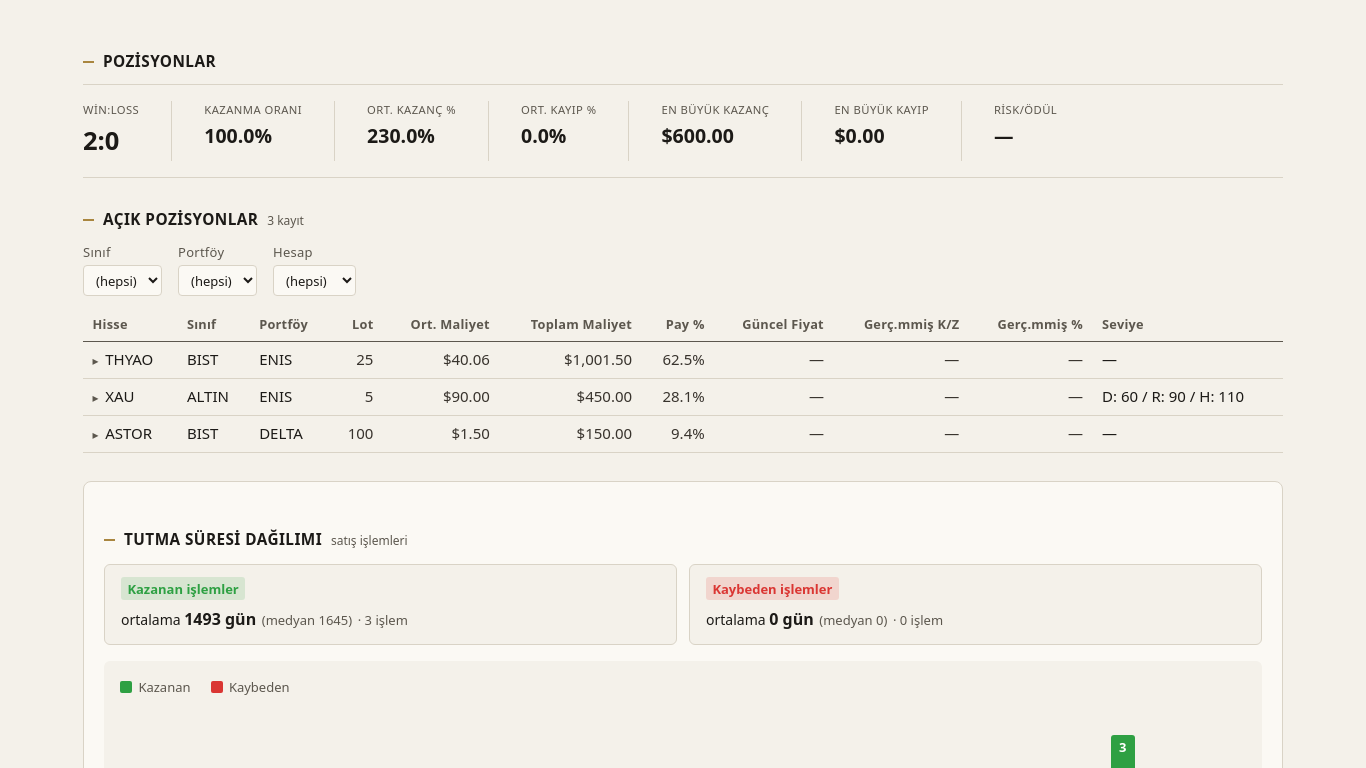
Pozisyonlar › G11: renders ⚠ ödünç badge on borrowed sale in sales table
This screenshot has width=1366, height=768.
Click the text "ASTOR": (683, 434) [83,416,1283,452]
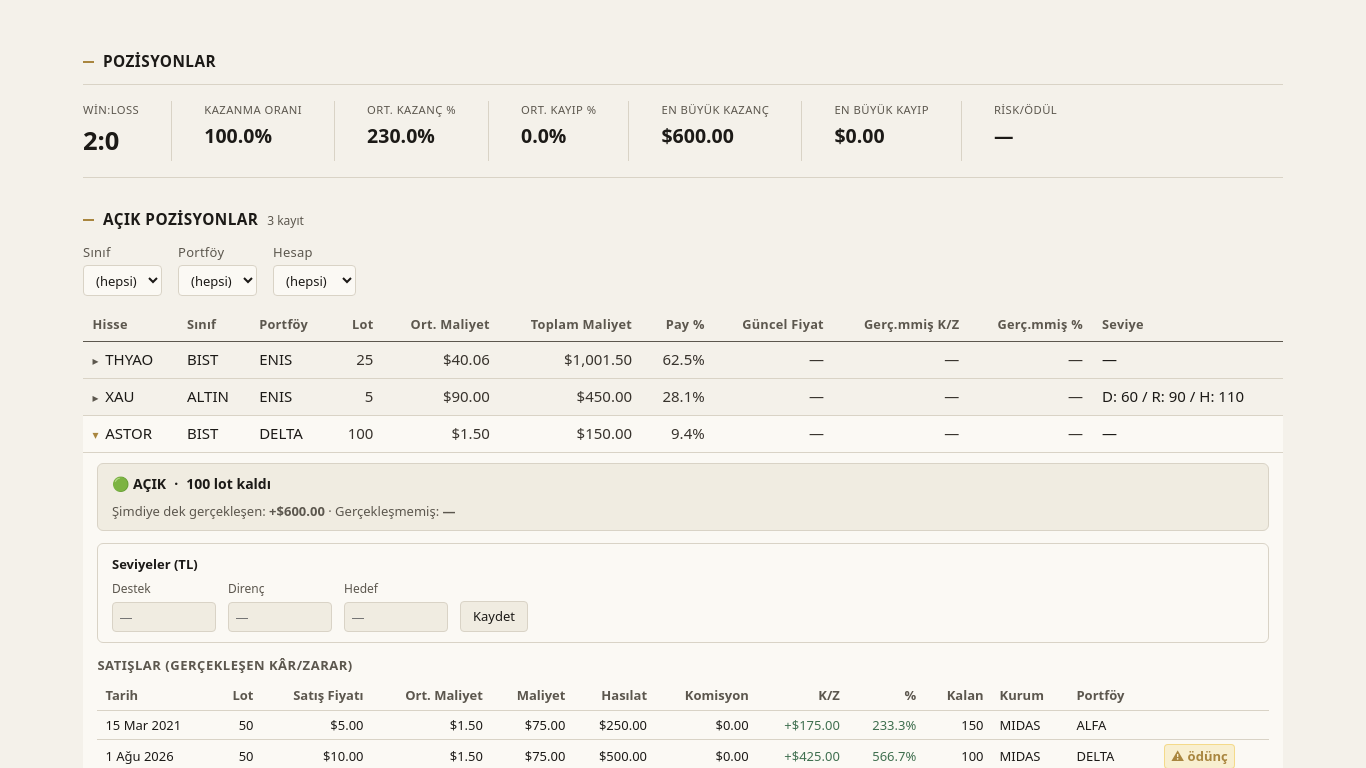
Expected: the text "⚠ ödünç" is shown, [1164,744,1235,767]
Expected: the text with class "badge-warn" reads "⚠ ödünç", [1171,747,1228,765]
